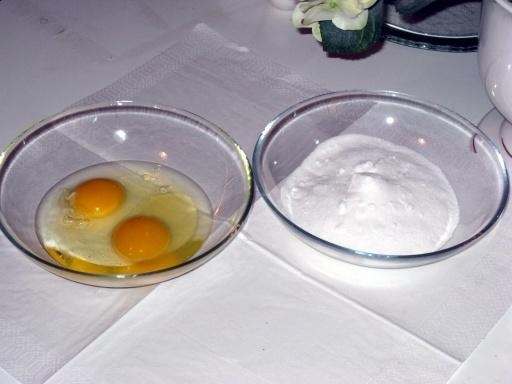background: (28, 0, 409, 74), (27, 70, 170, 164)
